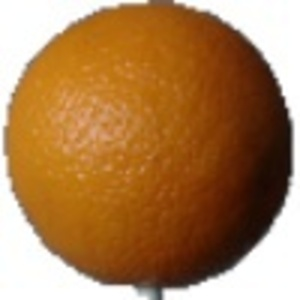laranja: (4, 3, 293, 283)
